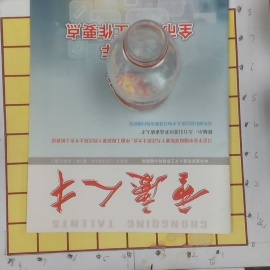bottle: (107, 21, 180, 115)
